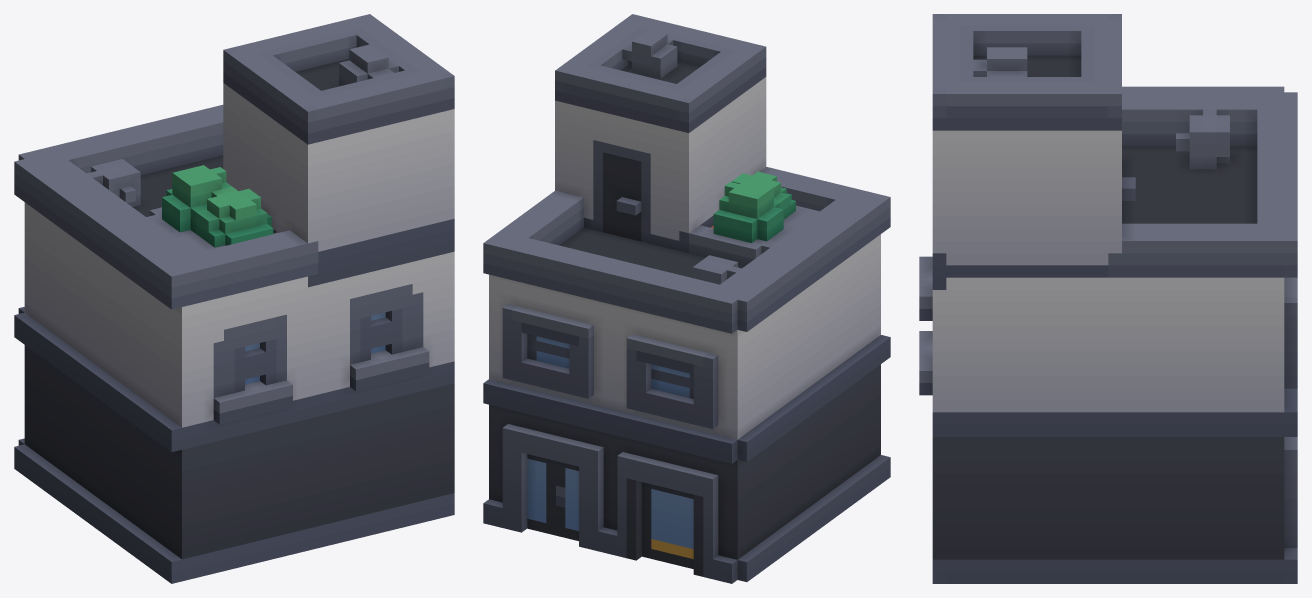
File: building_d.glb
The picture shows the model from 3 angles, left to right: view 1: azimuth 30°, elevation 25°; view 2: azimuth 150°, elevation 25°; view 3: azimuth 270°, elevation 25°; orthographic projection. The views are drawn at different scales.
Parts seen in each view (by area): view 1: voxels; view 2: voxels; view 3: voxels.
Boxes of the visible parts, bbox=[...] form: voxels: bbox=[14, 14, 454, 583]; voxels: bbox=[483, 14, 890, 583]; voxels: bbox=[919, 14, 1297, 583].
Size of the model in its own units: 0.8728 by 1.33 by 0.9051.
